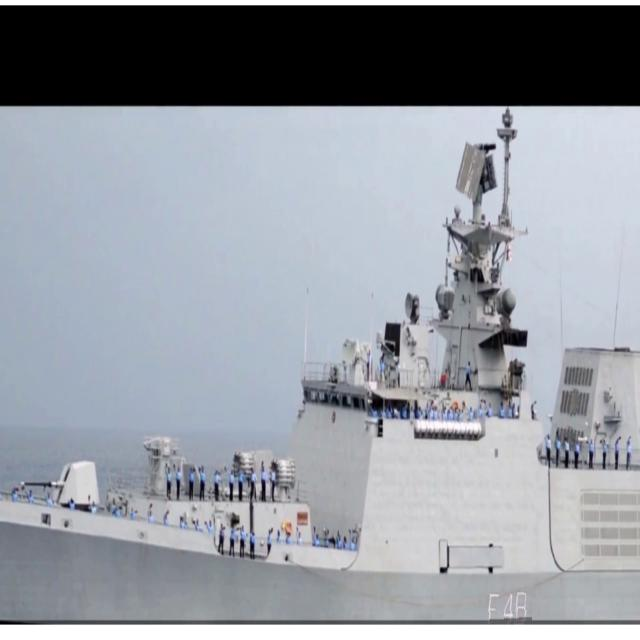OCR: (479, 587, 532, 624)
